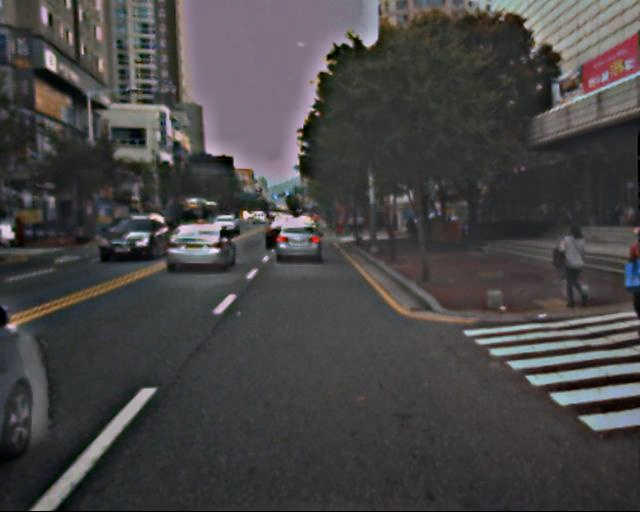person: (557, 228, 592, 313)
